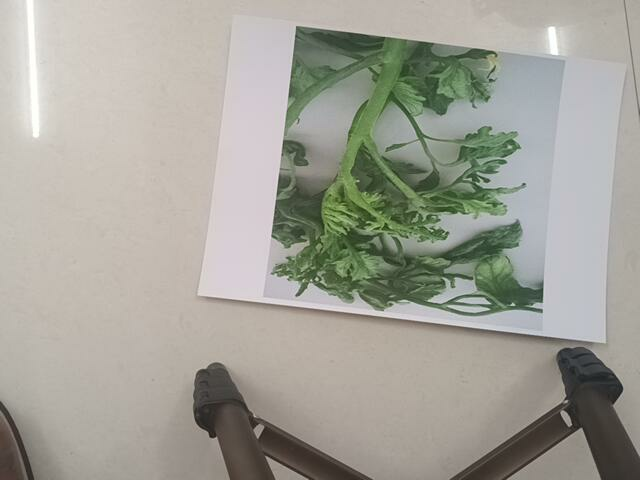Tomamto_Mosaic_virus: (292, 31, 543, 330)
